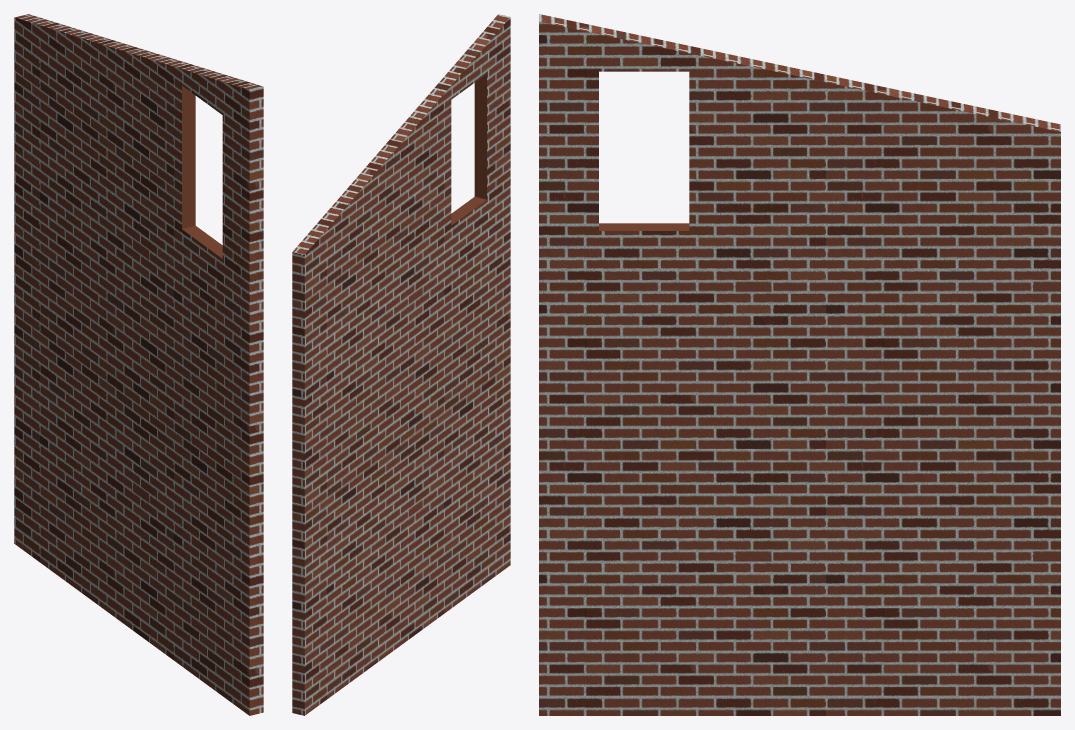
File: wqz18.obj
The picture shows the model from 3 angles, left to right: view 1: azimuth 30°, elevation 25°; view 2: azimuth 150°, elevation 25°; view 3: azimuth 270°, elevation 25°; orthographic projection. The views are drawn at different scales.
Parts seen in each view (by area): view 1: Line039; view 2: Line039; view 3: Line039.
Part boxes in pixels (x1,y1,x2,y2): Line039: (14,14,263,715); Line039: (292,14,510,715); Line039: (539,14,1060,715).
Bounding box in the file's own units: 2 × 85.82 × 58.46.
